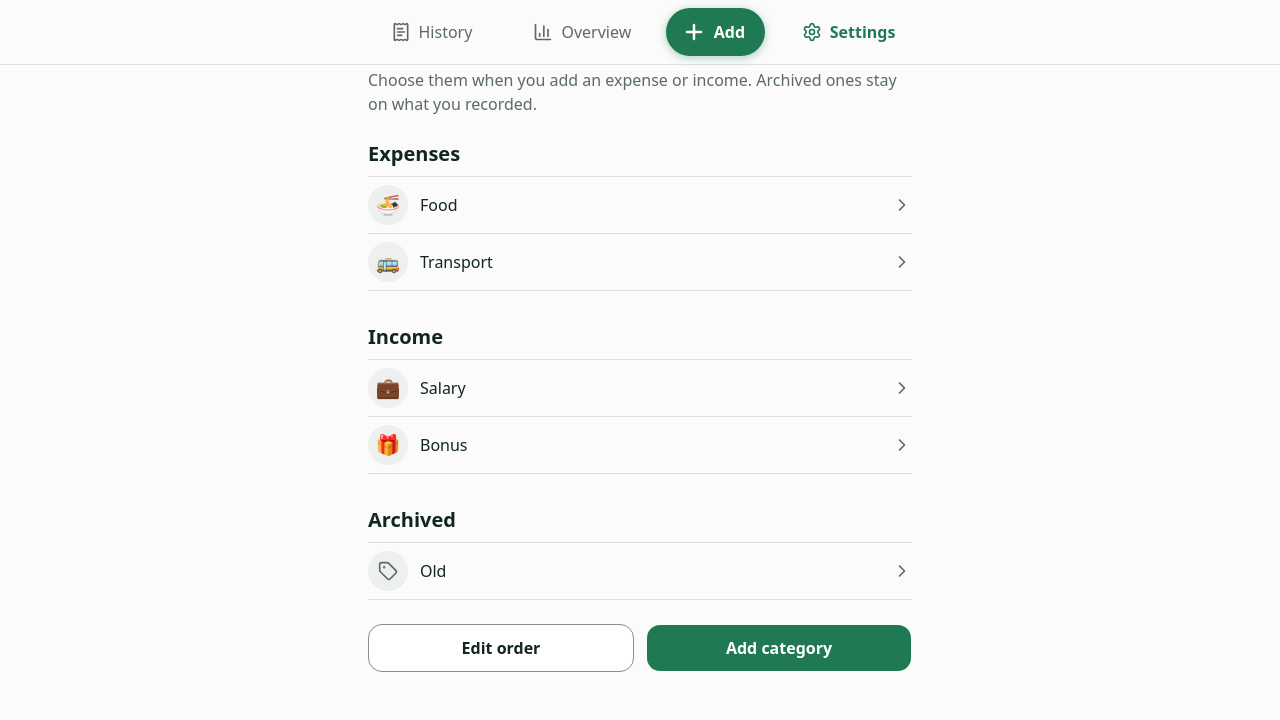
Test case: Categories › unarchives an archived category
(page scrolled)
Click the button "Old" at (388, 571), box 368,543 -> 912,599
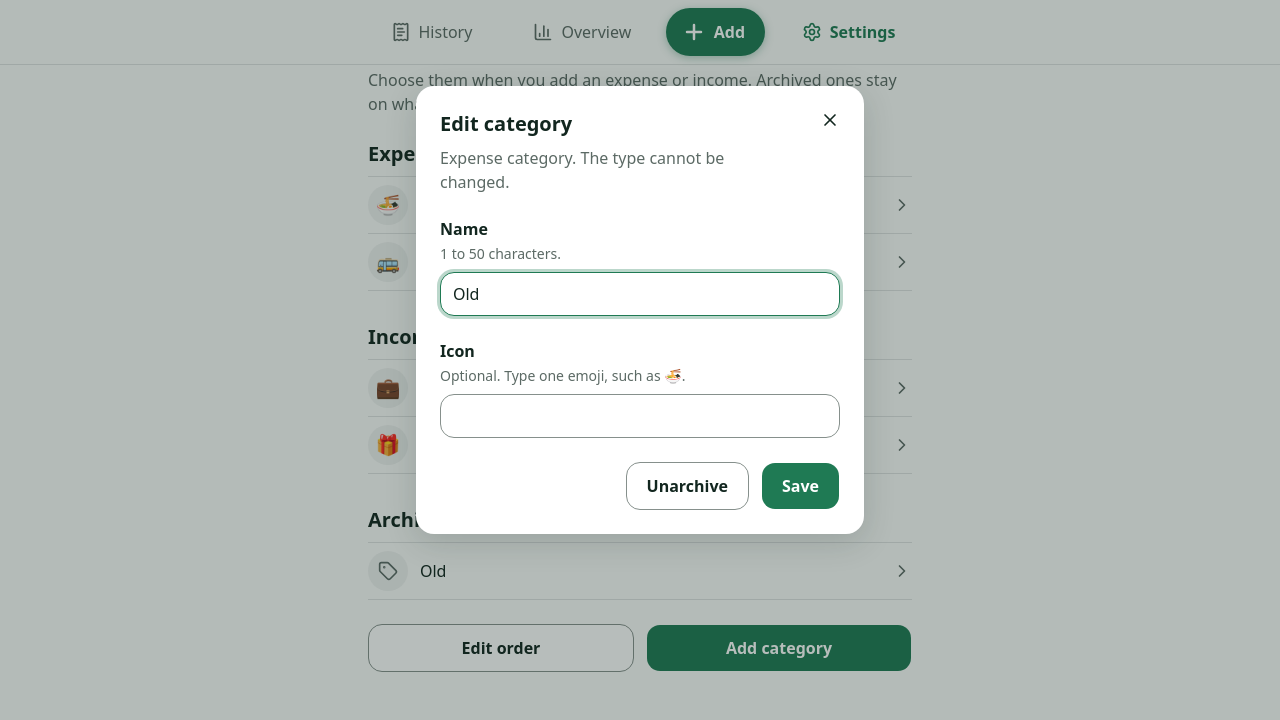
Click the button "Unarchive" at (687, 486), box 626,462 -> 749,510
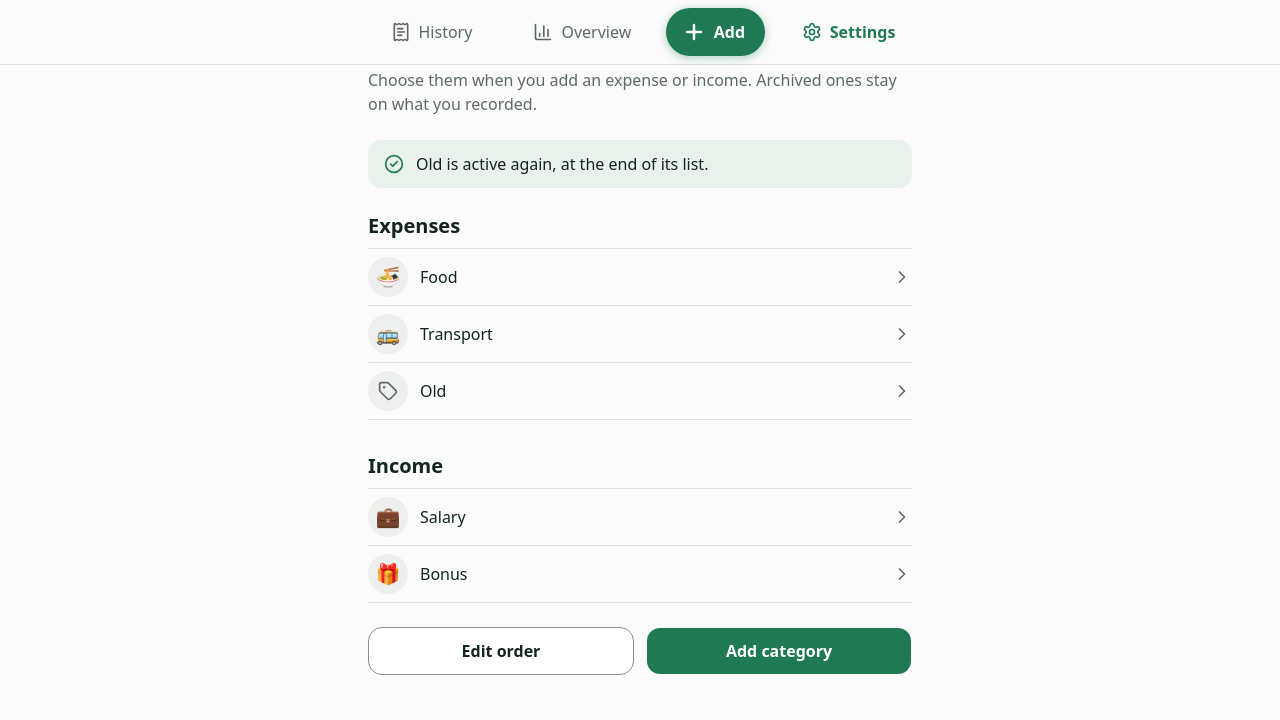
Check: the message shows "Old is active again", box 416,153 -> 708,175
